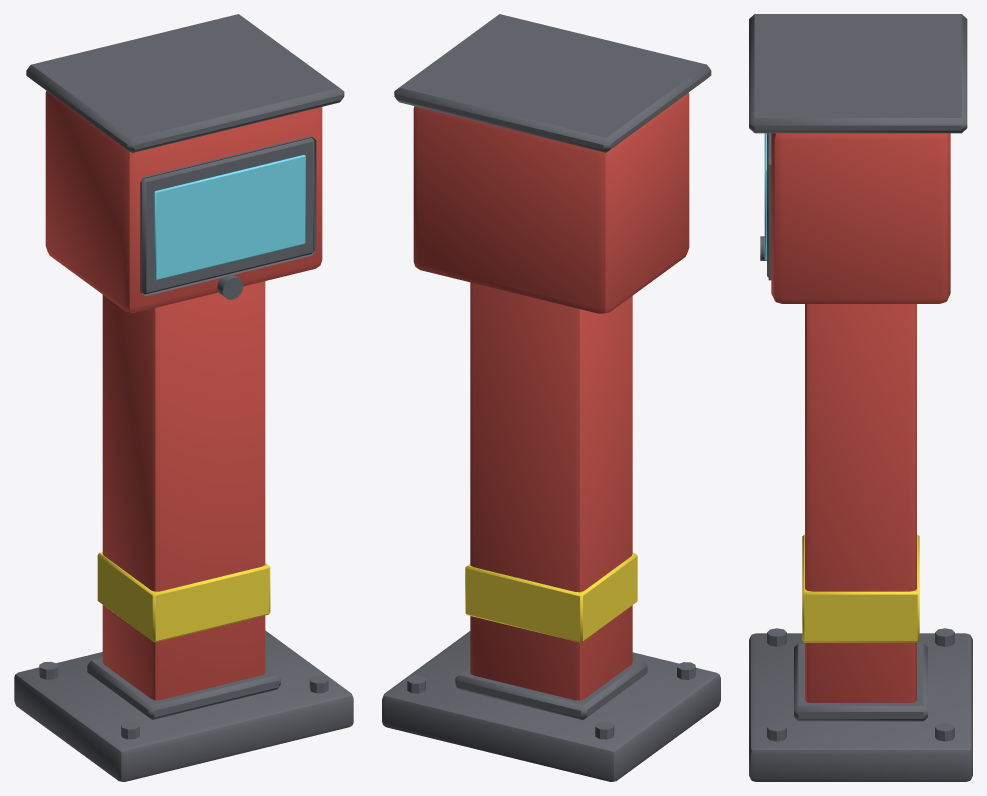
Rendered from Gate_Terminal.fbx.
The picture shows the model from 3 angles, left to right: view 1: azimuth 30°, elevation 25°; view 2: azimuth 150°, elevation 25°; view 3: azimuth 270°, elevation 25°; orthographic projection. The views are drawn at different scales.
Parts seen in each view (by area): view 1: Gate_Terminal; view 2: Gate_Terminal; view 3: Gate_Terminal.
Boxes of the visible parts, left/top/right/bottom form: Gate_Terminal: left=14, top=14, right=353, bottom=781; Gate_Terminal: left=382, top=14, right=720, bottom=781; Gate_Terminal: left=749, top=14, right=972, bottom=781.
Bounding box in the file's own units: 0.5 × 1.3 × 0.4.
